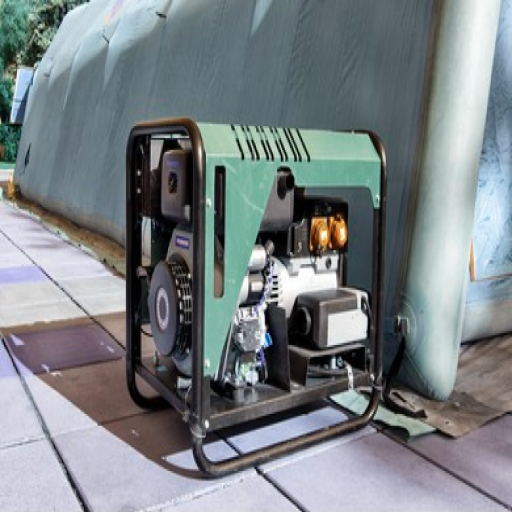portable_generator: (124, 118, 388, 479)
